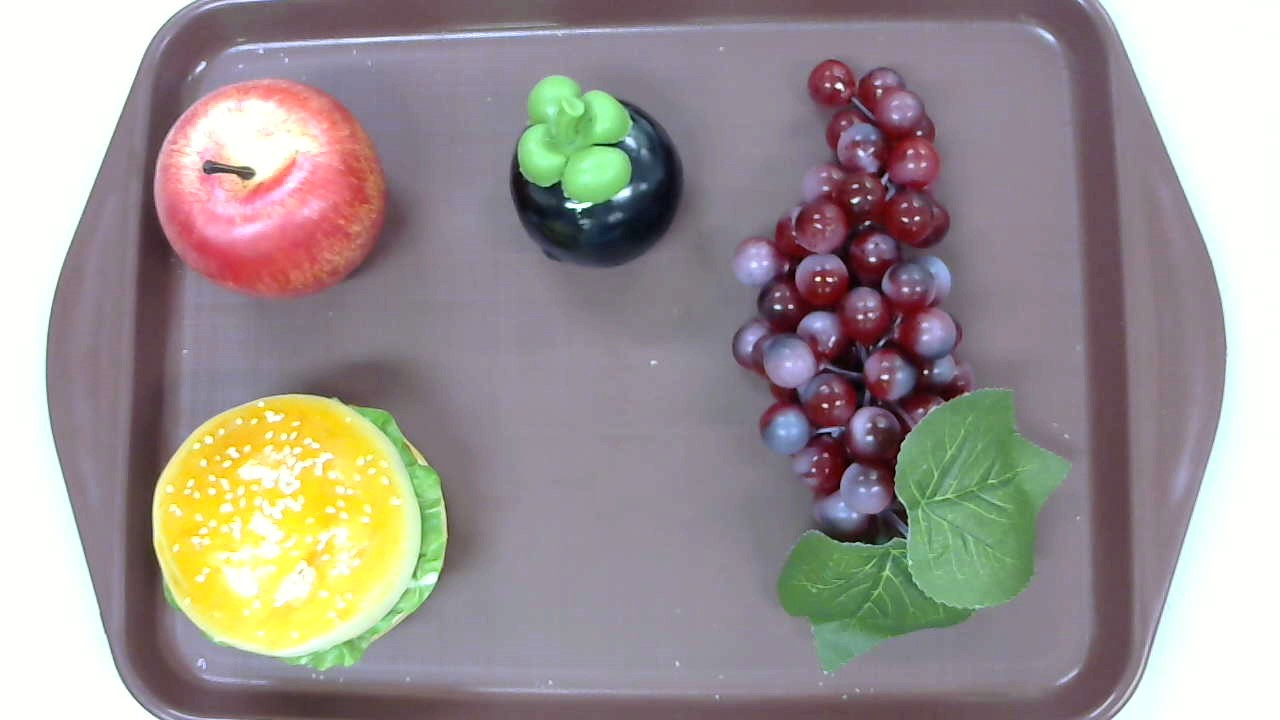grape: (731, 59, 1072, 676)
hamburger: (152, 393, 447, 669)
mangosteen: (509, 74, 685, 270)
red apple: (153, 79, 388, 302)
